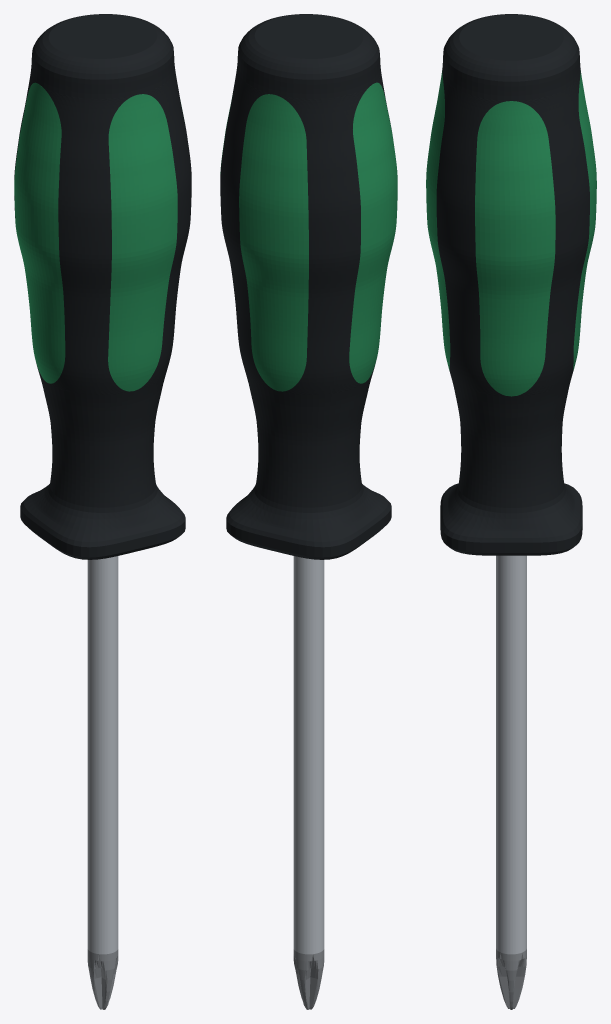
3 renders of one model, left to right at view 1: azimuth 30°, elevation 25°; view 2: azimuth 150°, elevation 25°; view 3: azimuth 270°, elevation 25°, orthographic.
Visible parts, largest first — view 1: Rigid handle core, Palm grip insert 4, Steel blade and cross tip, Palm grip insert 3; view 2: Rigid handle core, Palm grip insert 2, Steel blade and cross tip, Palm grip insert 3; view 3: Rigid handle core, Palm grip insert 1, Steel blade and cross tip, Palm grip insert 4, Palm grip insert 2.
Part boxes in pixels (x1,y1,x2,y2): Rigid handle core: (14,14,191,559); Palm grip insert 4: (108,94,177,391); Steel blade and cross tip: (87,556,118,1009); Palm grip insert 3: (14,82,65,383); Rigid handle core: (220,14,391,559); Palm grip insert 2: (239,94,308,391); Steel blade and cross tip: (293,556,324,1009); Palm grip insert 3: (349,82,397,383); Rigid handle core: (436,14,589,555); Palm grip insert 1: (475,101,555,396); Steel blade and cross tip: (496,555,526,1009); Palm grip insert 4: (426,70,450,370); Palm grip insert 2: (573,70,596,370).
Size of the model in its own units: 0.0348 by 0.208 by 0.0331.
